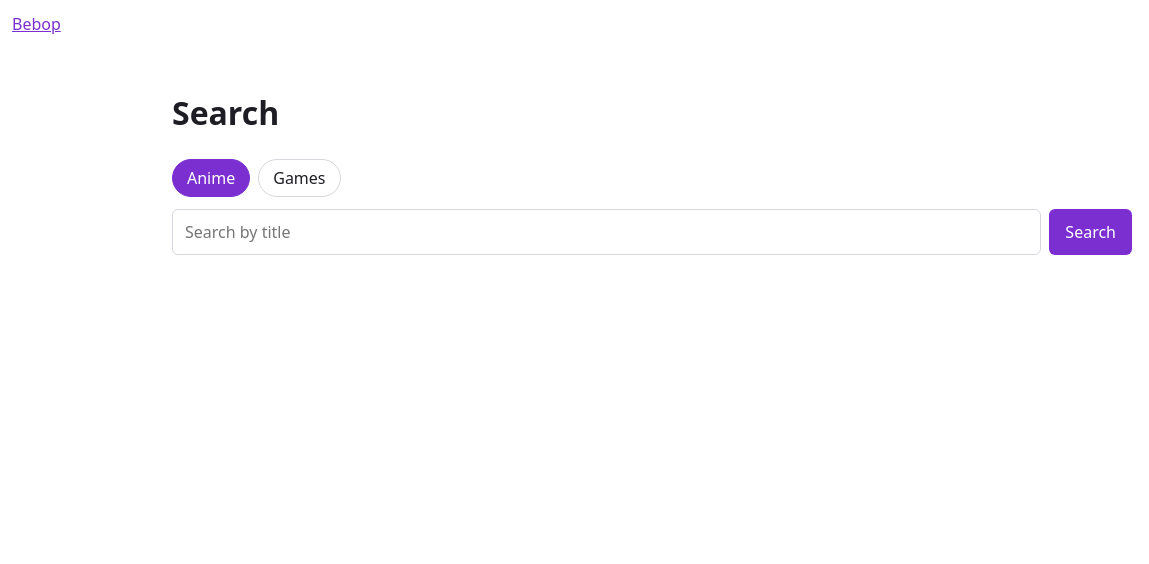
Test: SearchPage › searches when the form is submitted
Type "frieren" into the search field named "Anime title" at x=607, y=232, box [172, 209, 1041, 255]
Then press Enter
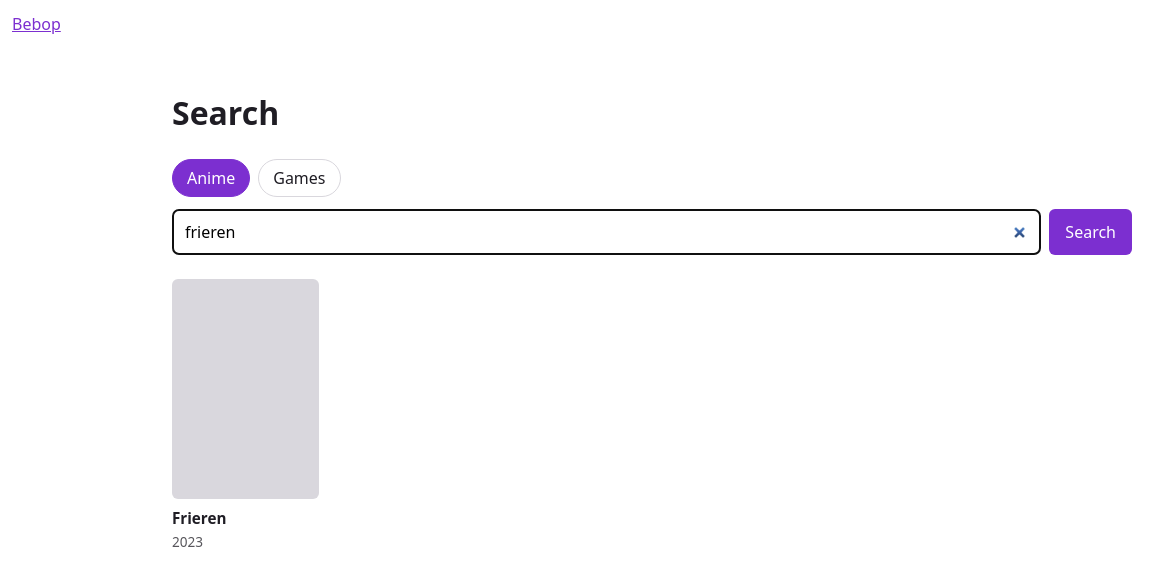
Result: the heading "Frieren" is shown at [172, 508, 226, 528]
